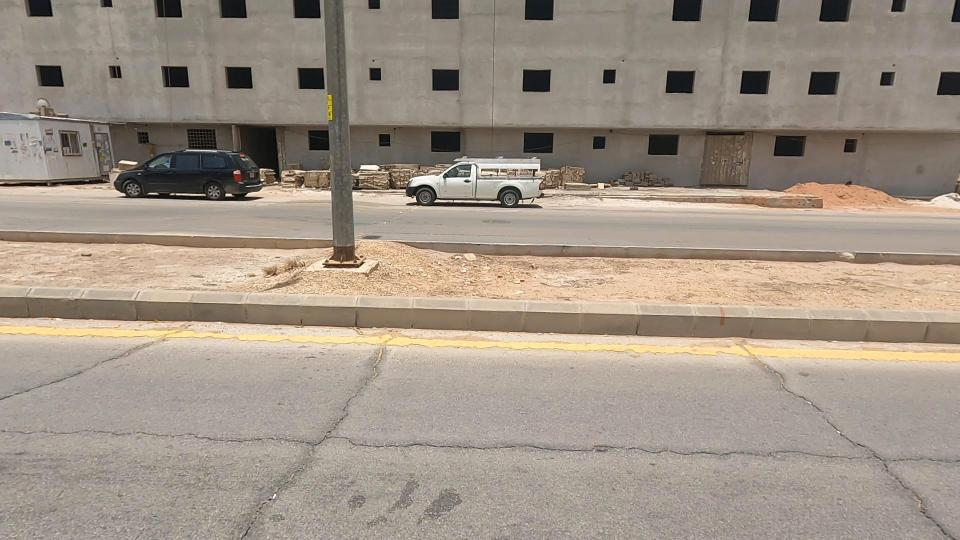CLUTTER_SIDEWALK: (285, 195, 932, 368), (0, 204, 366, 323)
SAND_ON_ROAD: (746, 145, 937, 240)
